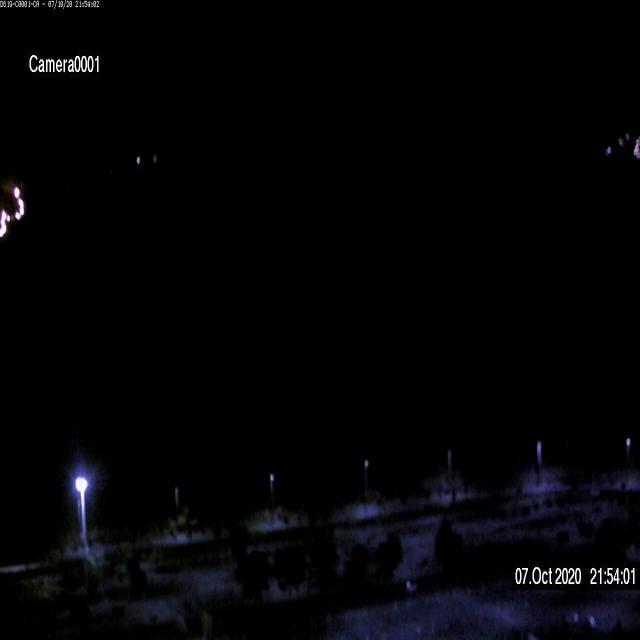Fire: (0, 185, 27, 242)
